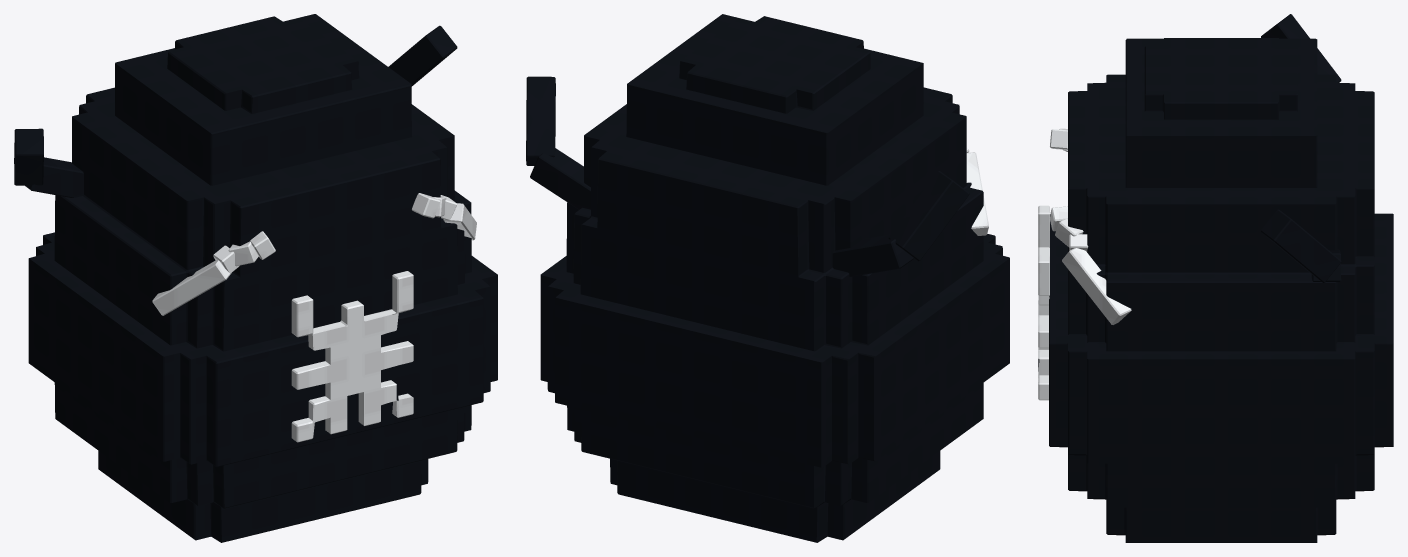
Rendered from Venom_Egg.fbx.
The picture shows the model from 3 angles, left to right: view 1: azimuth 30°, elevation 25°; view 2: azimuth 150°, elevation 25°; view 3: azimuth 270°, elevation 25°; orthographic projection.
Parts seen in each view (by area): view 1: Venom_Egg; view 2: Venom_Egg; view 3: Venom_Egg.
Part boxes in pixels (left/top/right/bottom): Venom_Egg: left=14, top=14, right=497, bottom=542; Venom_Egg: left=526, top=14, right=1009, bottom=542; Venom_Egg: left=1038, top=14, right=1393, bottom=542.
Bounding box in the file's own units: 352 × 320 × 247.
2 materials, 2 textured.
